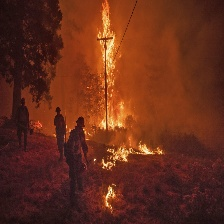fire: (92, 2, 127, 132), (92, 138, 170, 172), (100, 185, 129, 210), (33, 120, 47, 132)
smoke: (125, 1, 223, 141), (54, 4, 96, 120)
